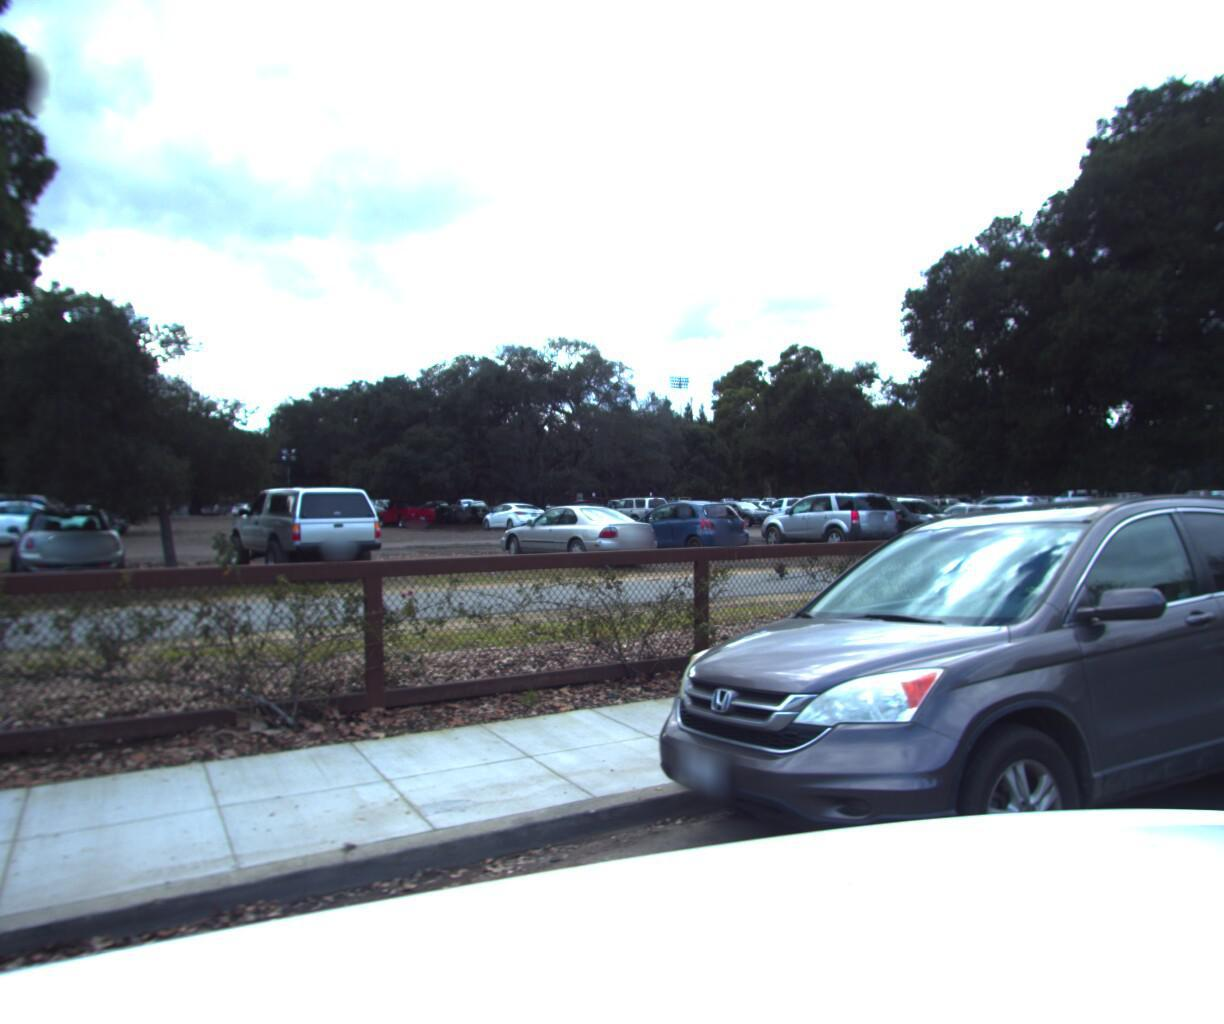car: (592, 489, 1224, 987), (1135, 487, 1224, 541)
other_vehicle: (1218, 253, 1224, 747)
